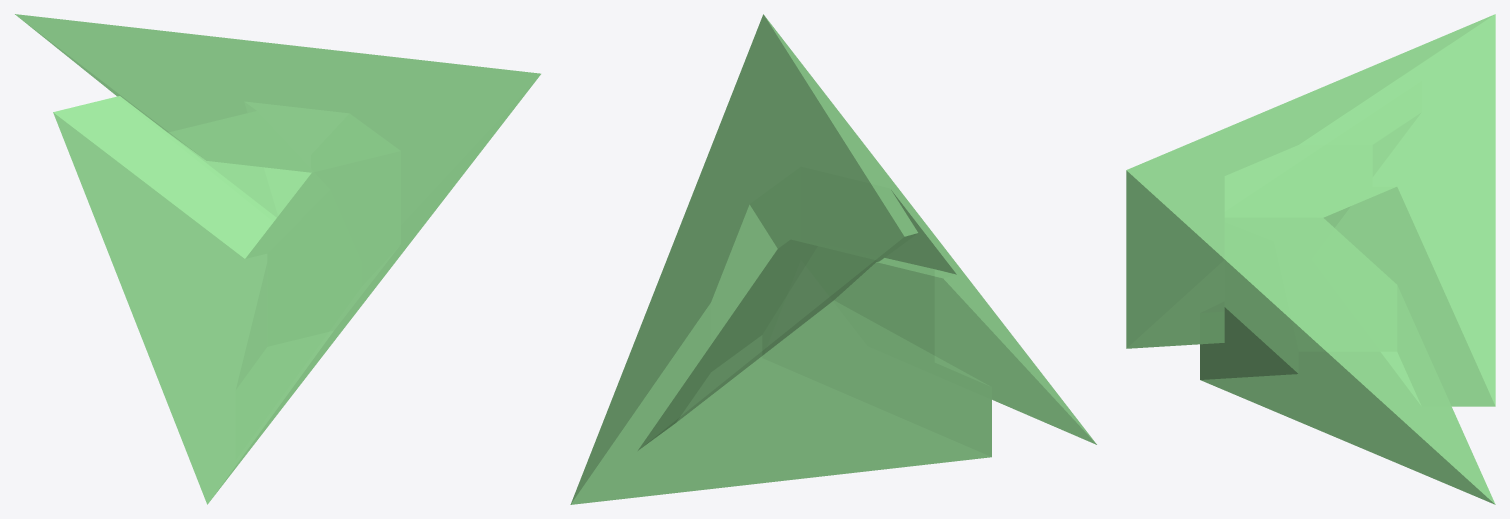
Rendered from HeptagonalDodecahedron_B.obj.
The picture shows the model from 3 angles, left to right: view 1: azimuth 30°, elevation 25°; view 2: azimuth 150°, elevation 25°; view 3: azimuth 270°, elevation 25°; orthographic projection. The views are drawn at different scales.
Size of the model in its own units: 30 by 30 by 30.
